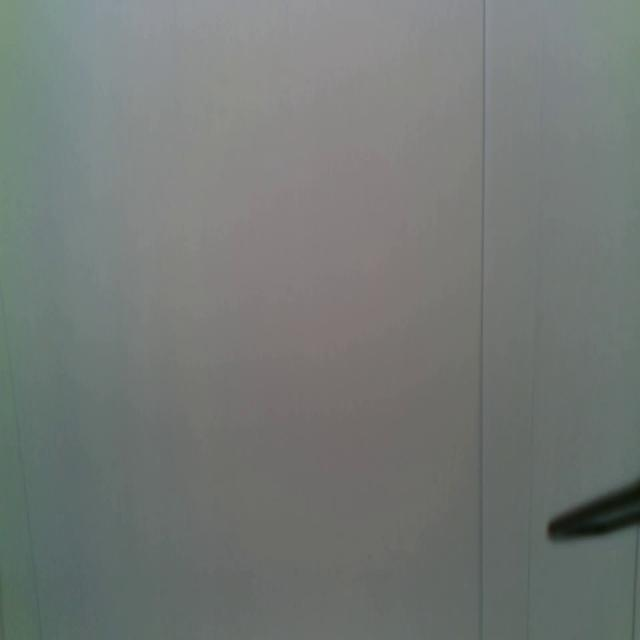crease: (0, 285, 43, 640), (526, 0, 547, 639), (478, 0, 487, 640), (631, 524, 640, 639)
